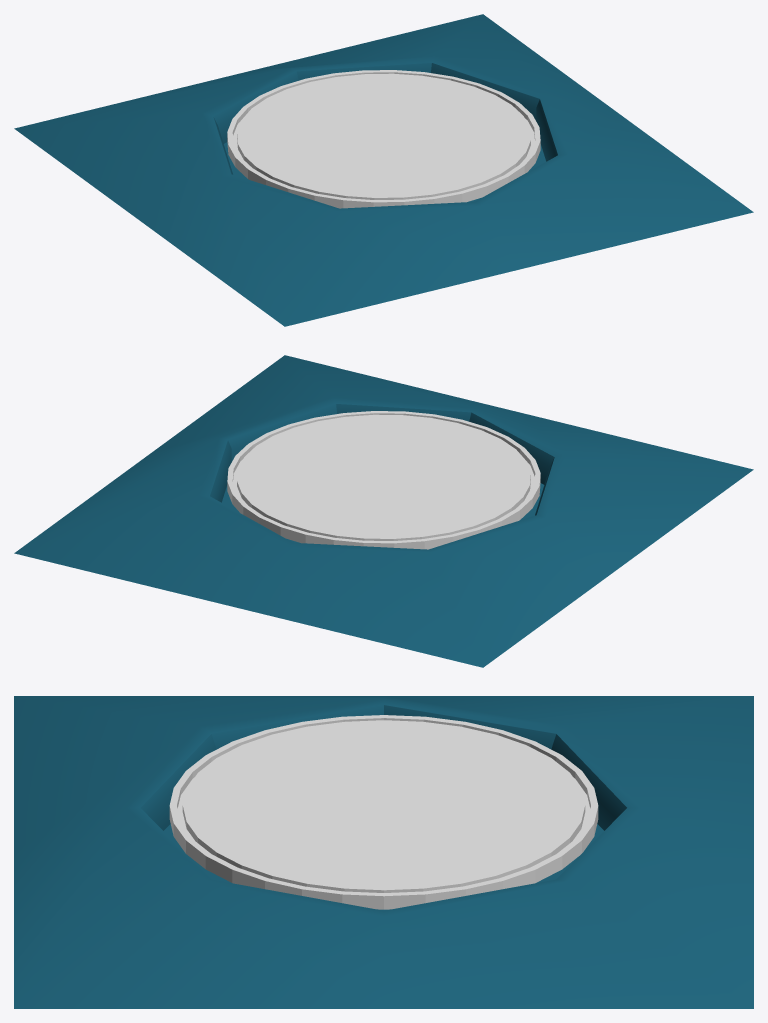
The model's file is StatePanel.fbx.
3 renders of one model, top to bottom at view 1: azimuth 30°, elevation 25°; view 2: azimuth 150°, elevation 25°; view 3: azimuth 270°, elevation 25°, orthographic. The views are drawn at different scales.
Visible parts, largest first — view 1: Boundry box.001, Circle; view 2: Boundry box.001, Circle; view 3: Boundry box.001, Circle.
Part boxes in pixels (<box>): Boundry box.001: <box>14,14,753,326</box>; Circle: <box>227,70,540,208</box>; Boundry box.001: <box>14,355,753,667</box>; Circle: <box>227,411,540,549</box>; Boundry box.001: <box>14,696,753,1008</box>; Circle: <box>169,715,598,909</box>.
Size of the model in its own units: 101 by 7.47 by 101.
